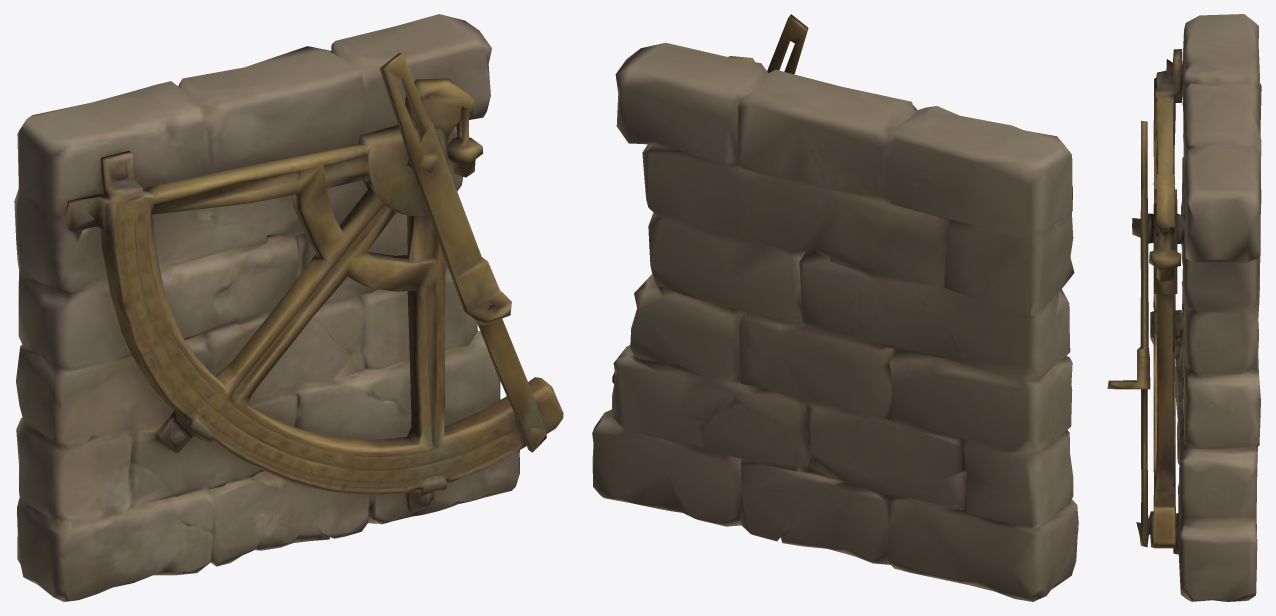
The model's file is mural_quadrant.glb.
3 renders of one model, left to right at view 1: azimuth 30°, elevation 25°; view 2: azimuth 150°, elevation 25°; view 3: azimuth 270°, elevation 25°, orthographic. The views are drawn at different scales.
Parts seen in each view (by area): view 1: tripo_node_e78fa500-1798-4574-8fc1-c9f9418fd689; view 2: tripo_node_e78fa500-1798-4574-8fc1-c9f9418fd689; view 3: tripo_node_e78fa500-1798-4574-8fc1-c9f9418fd689.
Part boxes in pixels (<box>): tripo_node_e78fa500-1798-4574-8fc1-c9f9418fd689: <box>14,14,563,601</box>; tripo_node_e78fa500-1798-4574-8fc1-c9f9418fd689: <box>592,14,1078,601</box>; tripo_node_e78fa500-1798-4574-8fc1-c9f9418fd689: <box>1107,14,1261,601</box>.
Bounding box in the file's own units: 0.9803 × 0.9365 × 0.3079.
1 material, 1 textured.
